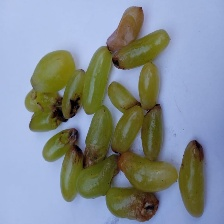grapes: (35, 41, 193, 203)
